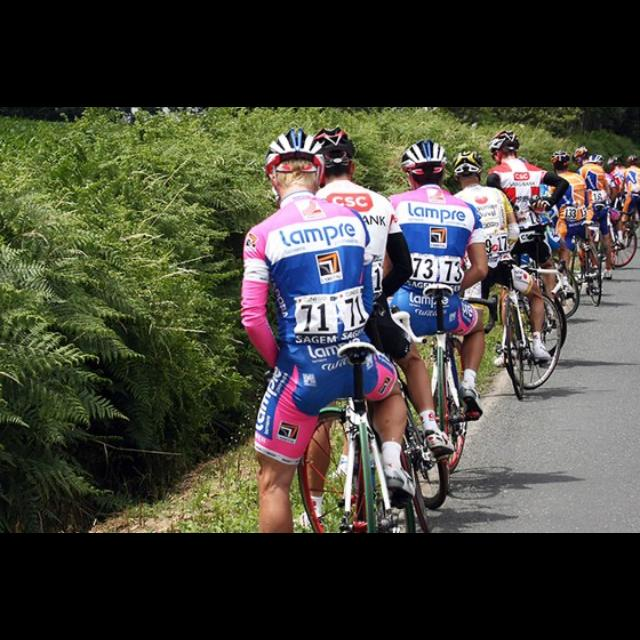With Helmet: (252, 126, 330, 202), (399, 133, 453, 200), (484, 124, 524, 164), (543, 144, 575, 172)
